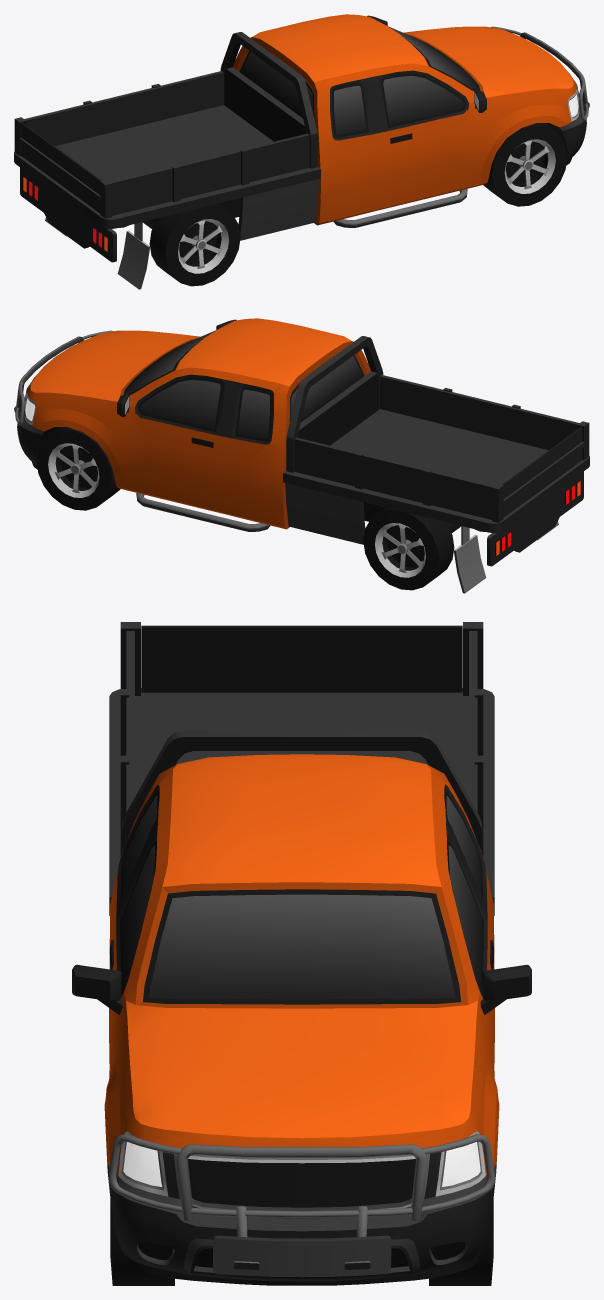
The model's file is Car_011.glb.
The picture shows the model from 3 angles, top to bottom: view 1: azimuth 30°, elevation 25°; view 2: azimuth 150°, elevation 25°; view 3: azimuth 270°, elevation 25°; orthographic projection. The views are drawn at different scales.
Parts seen in each view (by area): view 1: Car_011, wheel_3_Car_011_Wheel_2R, wheel_1_Car_011_Wheel_1R; view 2: Car_011, wheel_2_Car_011_Wheel_2L, wheel_0_Car_011_Wheel_1L; view 3: Car_011, wheel_1_Car_011_Wheel_1R, wheel_0_Car_011_Wheel_1L.
Part boxes in pixels (bbox=[...]): Car_011: bbox=[14, 14, 589, 289]; wheel_3_Car_011_Wheel_2R: bbox=[149, 203, 240, 286]; wheel_1_Car_011_Wheel_1R: bbox=[483, 123, 567, 206]; Car_011: bbox=[14, 318, 589, 593]; wheel_2_Car_011_Wheel_2L: bbox=[363, 507, 454, 590]; wheel_0_Car_011_Wheel_1L: bbox=[36, 427, 120, 510]; Car_011: bbox=[72, 622, 531, 1285]; wheel_1_Car_011_Wheel_1R: bbox=[110, 1199, 174, 1285]; wheel_0_Car_011_Wheel_1L: bbox=[429, 1199, 493, 1285].
Size of the model in its own units: 6.15 by 1.93 by 2.39.
2 materials, 2 textured.
